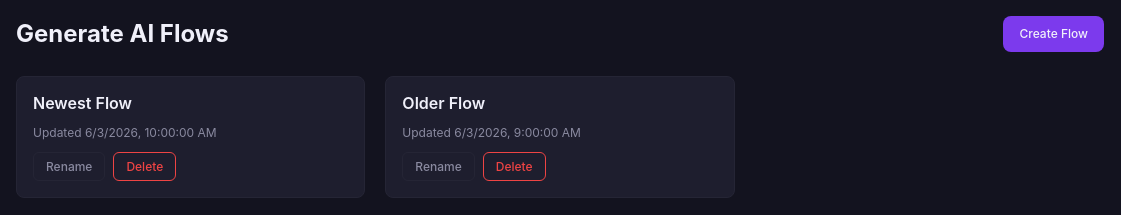
Test: FlowListPage › removes the deleted flow from the list optimistically
Expected: the heading "Newest Flow" is shown, [33,93,132,113]
Click the 1st button "Delete" at {"x": 145, "y": 166}, box [113,152,176,181]
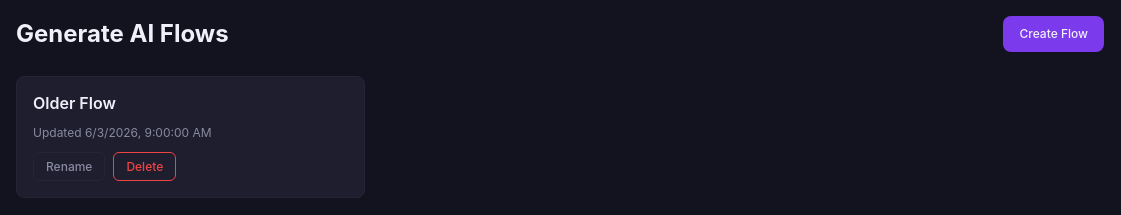
Expected: the button "Newest Flow" is gone
